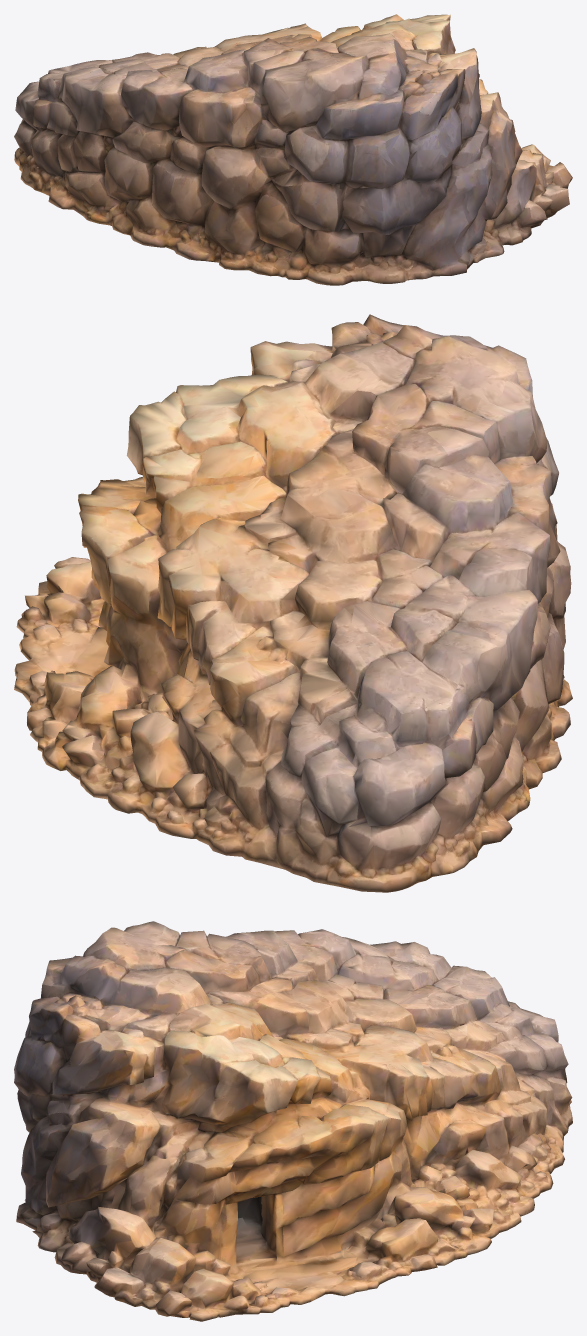
Rendered from tumulo_rocha.glb.
3 renders of one model, top to bottom at view 1: azimuth 30°, elevation 25°; view 2: azimuth 150°, elevation 25°; view 3: azimuth 270°, elevation 25°, orthographic. The views are drawn at different scales.
Visible parts, largest first — view 1: Tumulo_Rocha; view 2: Tumulo_Rocha; view 3: Tumulo_Rocha.
Part boxes in pixels (x1=…): Tumulo_Rocha: x1=14, y1=14, x2=572, y2=285; Tumulo_Rocha: x1=14, y1=314, x2=572, y2=892; Tumulo_Rocha: x1=14, y1=921, x2=572, y2=1321.
Size of the model in its own units: 16.01 by 7.48 by 15.93.
Materials: 1 (1 with a texture image).
